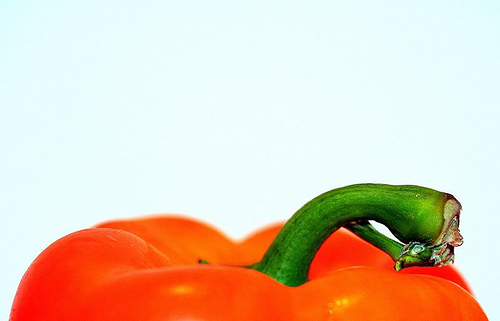capsicum: (10, 182, 490, 320)
